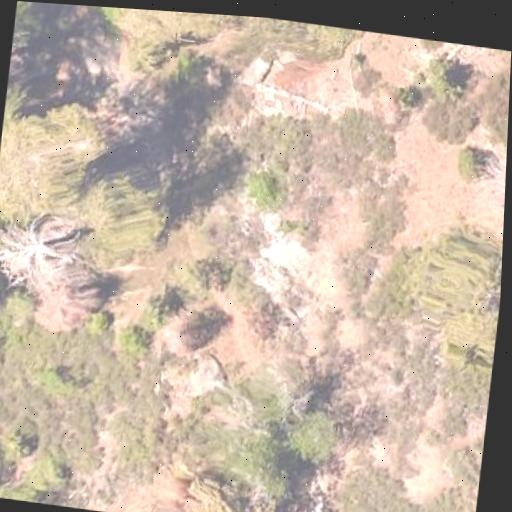tree-top: (197, 361, 348, 511), (392, 213, 504, 383), (0, 91, 92, 224), (78, 162, 184, 269), (200, 13, 339, 61), (0, 445, 67, 506), (241, 161, 295, 217), (417, 48, 470, 104), (452, 140, 495, 185), (61, 4, 119, 25), (14, 1, 45, 35), (0, 252, 5, 328)
